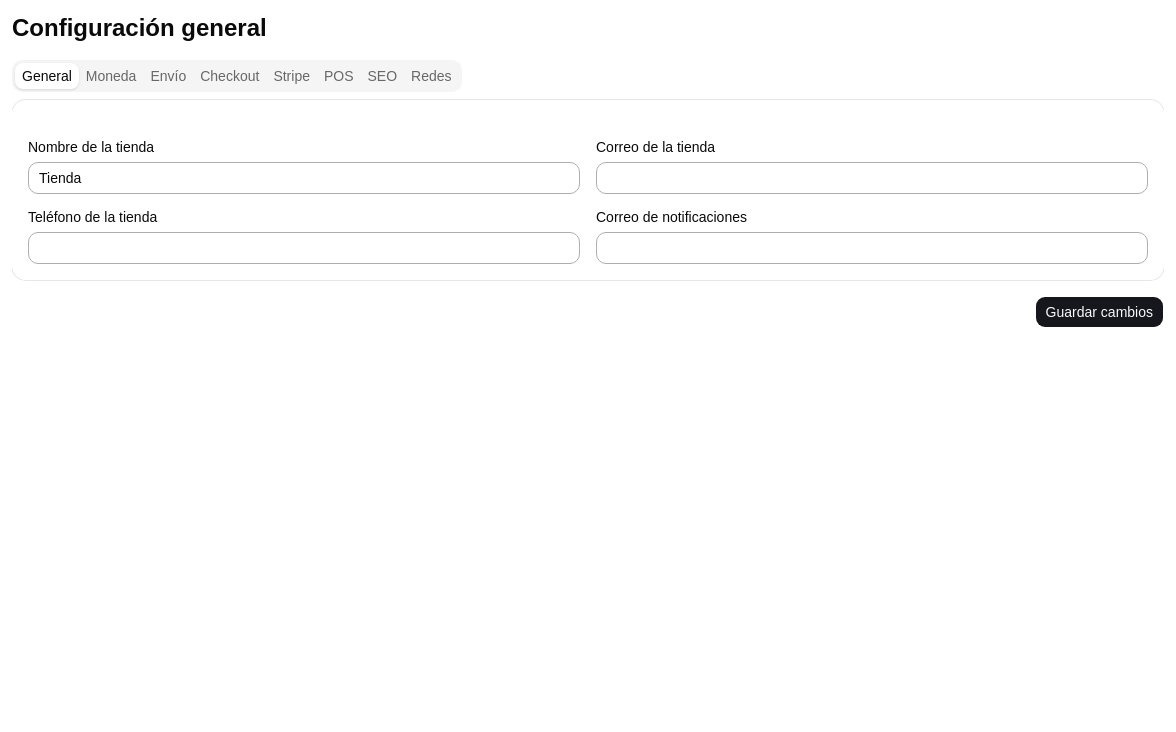
Test: GeneralSettings: pestaña POS › says the integration is disabled and locks the fields
Click the tab "POS".
click(339, 76)  # box [317, 63, 361, 89]
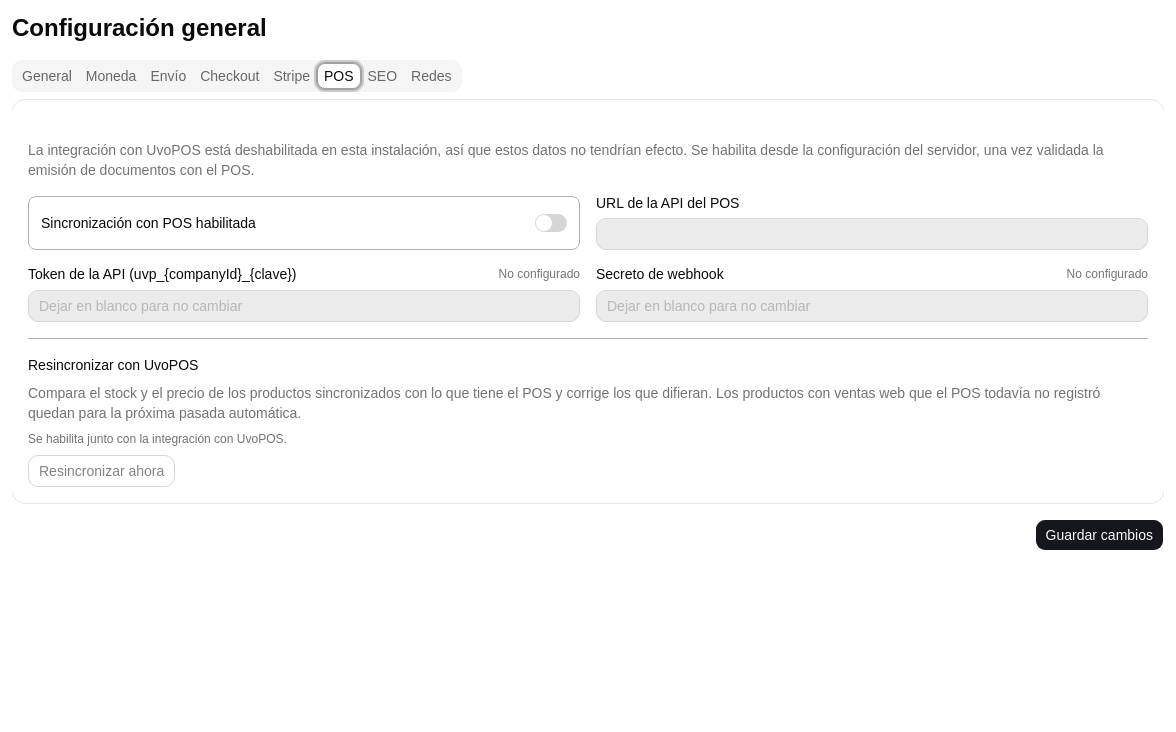
Now the text "integración con UvoPOS está deshabilitada" is shown, box [28, 142, 1104, 178]
Now the switch named "sincronización con pos" is disabled, box [535, 214, 567, 232]
Now the field labelled "URL de la API del POS" is disabled, box [596, 218, 1148, 250]
